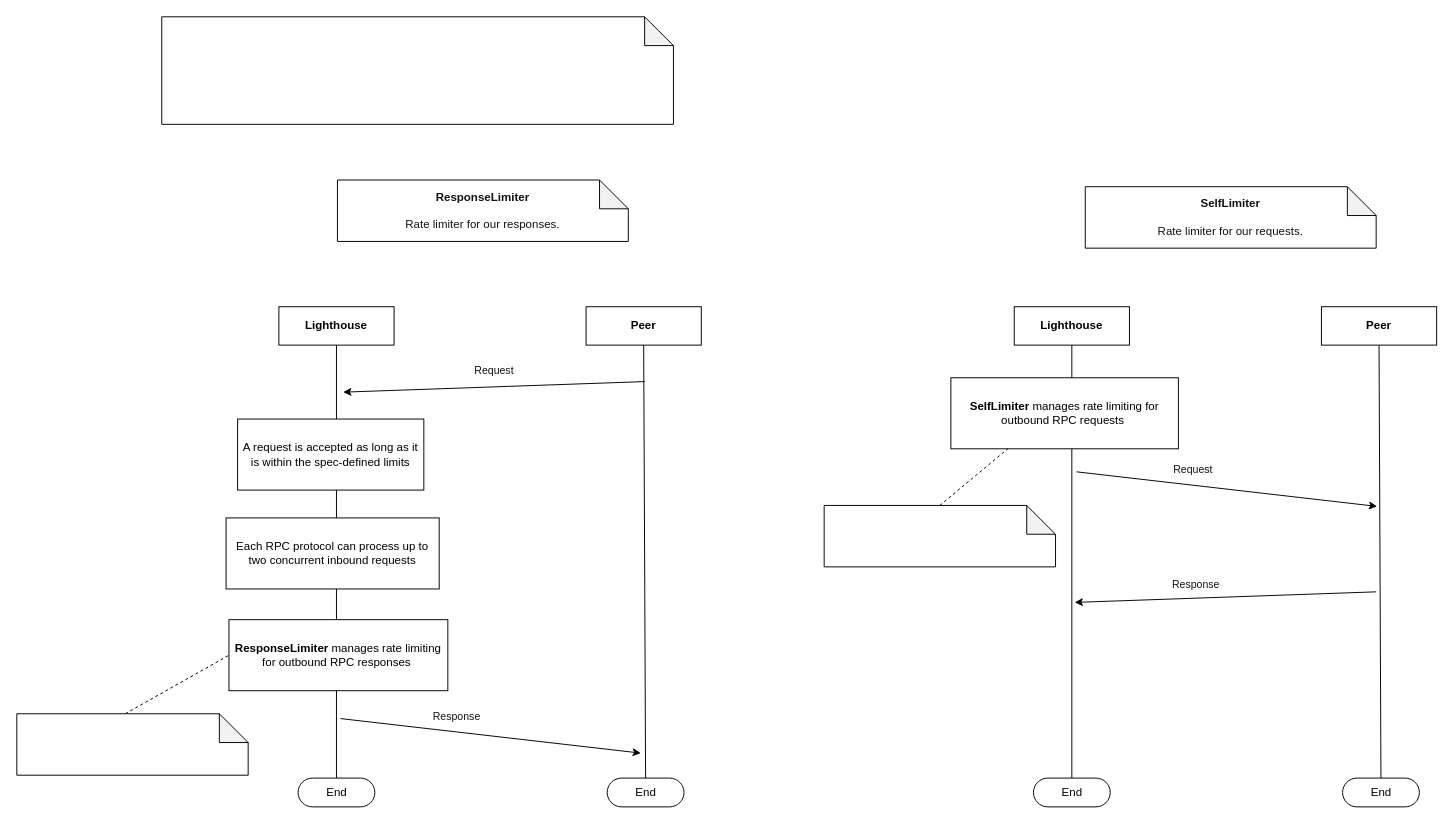
Some shapes in this 1453 by 824 pixel diagram are drawn without their labels. Here are the shapes that lost their labels. From the top down, the centre of each, then its label:
At (417,70): "https://chat.sigmapri.me/sigmaprime/pl/gmn51rihx3nmmcbw3hchsxu1gr".
At (939,535): "SelfLimiter uses OutboundRateLimiterConfig".
At (132,744): "ResponseLimiter uses InboundRateLimiterConfig".
